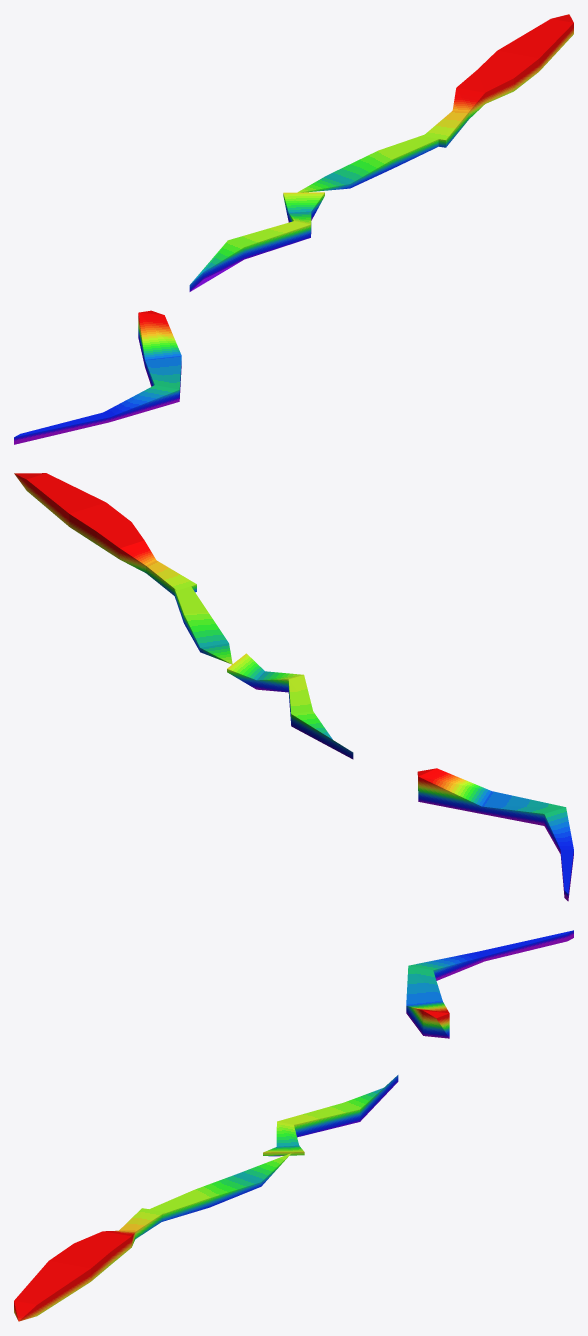
File: dukest1resurvey2009.gltf
3 views of the same model, one above another, from view 1: azimuth 90°, elevation 25°; view 2: azimuth 150°, elevation 25°; view 3: azimuth 270°, elevation 25° (orthographic).
Bounding box in the file's own units: 231 × 8.37 × 134.
Materials: 1 (1 with a texture image).
